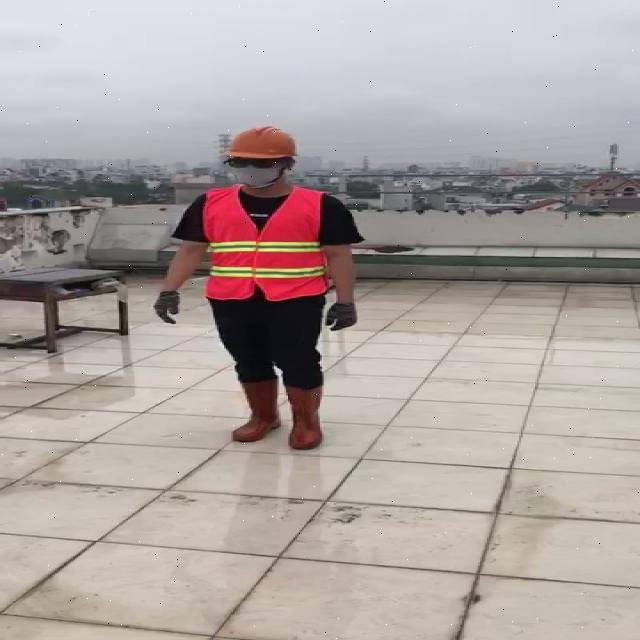Hard_hat: (221, 123, 306, 168)
Vest: (202, 180, 331, 301)
